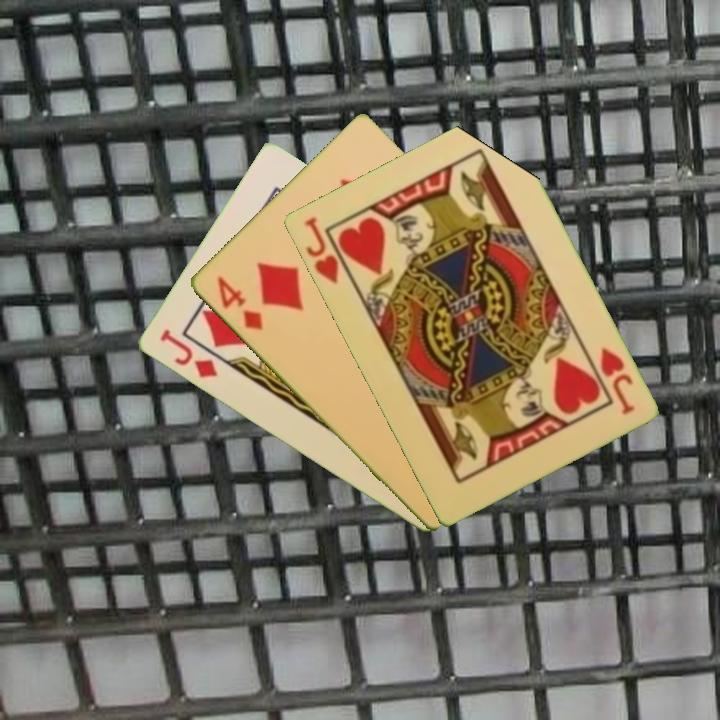4d: (213, 273, 266, 333)
Jd: (155, 326, 220, 381)
Jh: (300, 213, 341, 287), (596, 344, 637, 418)
